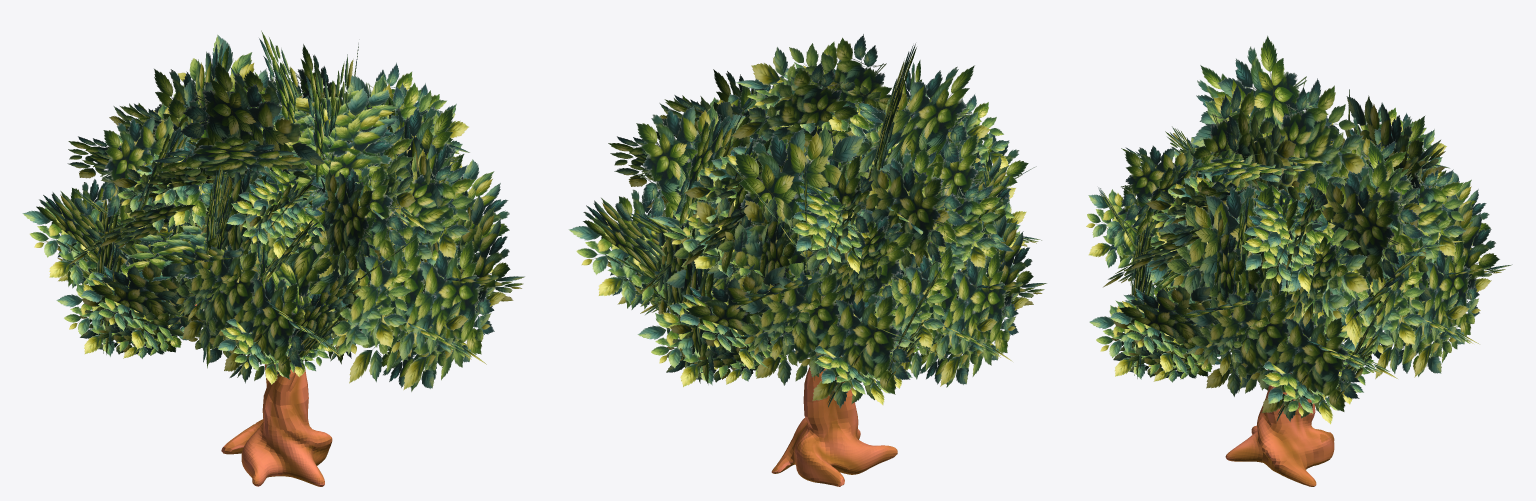
Rendered from WorldTreeB.1.1.fbx.
3 views of the same model, side by side, from view 1: azimuth 30°, elevation 25°; view 2: azimuth 150°, elevation 25°; view 3: azimuth 270°, elevation 25° (orthographic). The views are drawn at different scales.
Parts seen in each view (by area): view 1: Leafs, TreeRetopol; view 2: Leafs, TreeRetopol; view 3: Leafs, TreeRetopol.
Part boxes in pixels (left/top/right/bottom): Leafs: left=22, top=30, right=524, bottom=391; TreeRetopol: left=195, top=304, right=332, bottom=486; Leafs: left=568, top=34, right=1046, bottom=408; TreeRetopol: left=771, top=355, right=897, bottom=486; Leafs: left=1086, top=35, right=1512, bottom=424; TreeRetopol: left=1225, top=369, right=1334, bottom=486.
Bounding box in the file's own units: 542 × 524 × 500.
